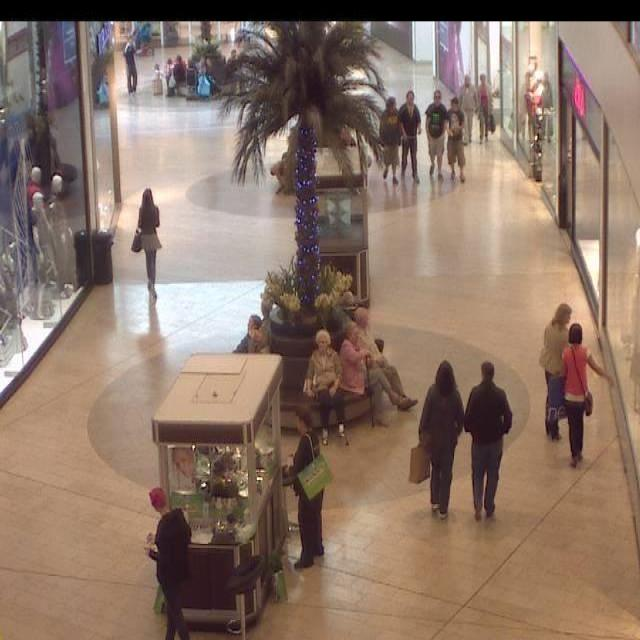gun: (285, 407, 335, 570), (463, 362, 514, 518), (338, 325, 414, 418), (418, 367, 464, 520), (148, 489, 192, 640), (560, 324, 598, 468), (538, 304, 574, 444), (400, 90, 451, 185), (302, 332, 343, 444), (132, 188, 164, 296), (396, 93, 422, 183), (379, 99, 404, 189), (426, 93, 450, 179), (444, 99, 468, 184), (232, 314, 270, 354), (460, 77, 480, 142), (476, 74, 494, 139), (123, 39, 140, 93), (196, 56, 214, 97), (148, 61, 166, 99), (170, 55, 186, 94)
